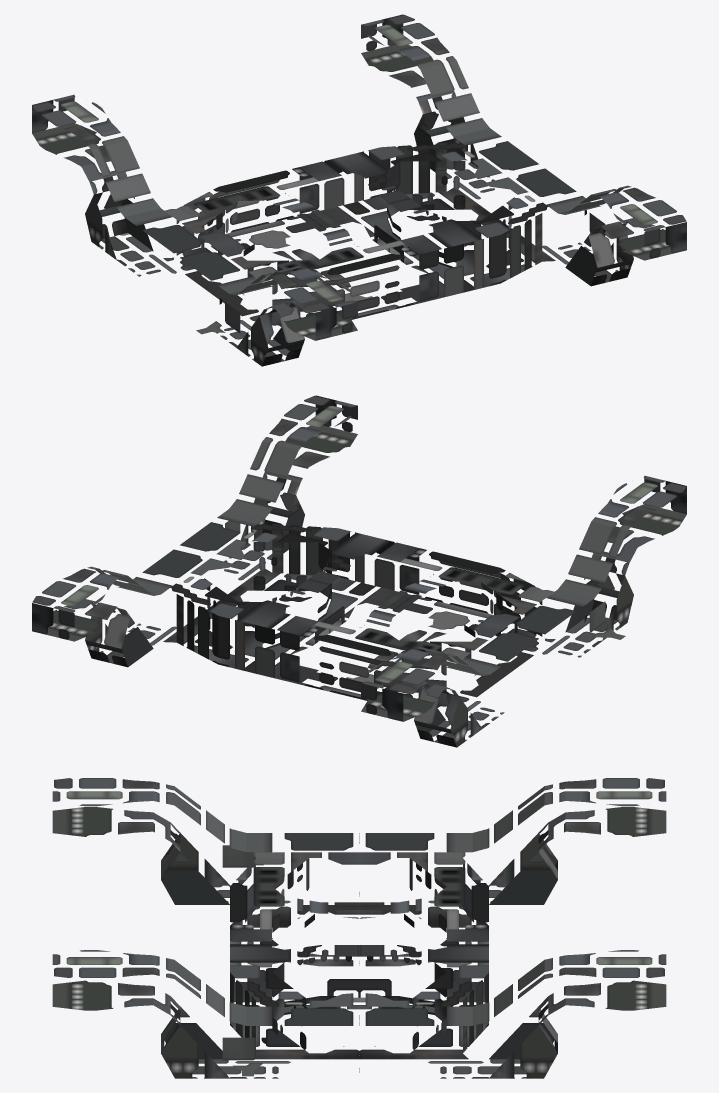
Rendered from frame.obj.
3 views of the same model, one above another, from view 1: azimuth 30°, elevation 25°; view 2: azimuth 150°, elevation 25°; view 3: azimuth 270°, elevation 25° (orthographic). The views are drawn at different scales.
Parts seen in each view (by area): view 1: 7cf689dd-1eef-8bf6-6ad1-de03ecfb1a05, d1c06e5a-9e5c-ef10-d450-b28d88e30d1c, 487ab08d-811e-2907-30f2-d24b9ccb7223, 2b9fe900-6c8f-273e-e138-6f986bbbc29f, 8745eeaf-5319-a50d-8b9d-fb3977d7cd1e, c4dfe120-b745-5eae-a7d9-37b55d8b1252, b2cb1ccc-1242-5784-09e6-369ddd9524be, 949fe6ac-1809-9cd4-9c62-712d0fc1b0db, 69cb2971-0ea8-21ae-bf05-8ecc505678e9; view 2: c4dfe120-b745-5eae-a7d9-37b55d8b1252, 487ab08d-811e-2907-30f2-d24b9ccb7223, d1c06e5a-9e5c-ef10-d450-b28d88e30d1c, 8745eeaf-5319-a50d-8b9d-fb3977d7cd1e, 2b9fe900-6c8f-273e-e138-6f986bbbc29f, 7cf689dd-1eef-8bf6-6ad1-de03ecfb1a05, 949fe6ac-1809-9cd4-9c62-712d0fc1b0db, b2cb1ccc-1242-5784-09e6-369ddd9524be, 69cb2971-0ea8-21ae-bf05-8ecc505678e9; view 3: 2b9fe900-6c8f-273e-e138-6f986bbbc29f, 8745eeaf-5319-a50d-8b9d-fb3977d7cd1e, c4dfe120-b745-5eae-a7d9-37b55d8b1252, 7cf689dd-1eef-8bf6-6ad1-de03ecfb1a05, d1c06e5a-9e5c-ef10-d450-b28d88e30d1c, 487ab08d-811e-2907-30f2-d24b9ccb7223, 949fe6ac-1809-9cd4-9c62-712d0fc1b0db, b2cb1ccc-1242-5784-09e6-369ddd9524be, 50bc8188-d60c-60ed-7530-eaaaee57a50e, 69cb2971-0ea8-21ae-bf05-8ecc505678e9.
Boxes of the visible parts, x1=… form: 7cf689dd-1eef-8bf6-6ad1-de03ecfb1a05: x1=32, y1=94, x2=202, y2=276; d1c06e5a-9e5c-ef10-d450-b28d88e30d1c: x1=299, y1=143, x2=502, y2=251; 487ab08d-811e-2907-30f2-d24b9ccb7223: x1=389, y1=177, x2=555, y2=303; 2b9fe900-6c8f-273e-e138-6f986bbbc29f: x1=361, y1=14, x2=538, y2=199; 8745eeaf-5319-a50d-8b9d-fb3977d7cd1e: x1=516, y1=168, x2=686, y2=286; c4dfe120-b745-5eae-a7d9-37b55d8b1252: x1=180, y1=251, x2=357, y2=366; b2cb1ccc-1242-5784-09e6-369ddd9524be: x1=163, y1=167, x2=329, y2=295; 949fe6ac-1809-9cd4-9c62-712d0fc1b0db: x1=213, y1=218, x2=418, y2=326; 69cb2971-0ea8-21ae-bf05-8ecc505678e9: x1=196, y1=298, x2=240, y2=334; c4dfe120-b745-5eae-a7d9-37b55d8b1252: x1=516, y1=475, x2=686, y2=657; 487ab08d-811e-2907-30f2-d24b9ccb7223: x1=216, y1=524, x2=419, y2=632; d1c06e5a-9e5c-ef10-d450-b28d88e30d1c: x1=163, y1=558, x2=329, y2=684; 8745eeaf-5319-a50d-8b9d-fb3977d7cd1e: x1=180, y1=395, x2=357, y2=580; 2b9fe900-6c8f-273e-e138-6f986bbbc29f: x1=32, y1=549, x2=202, y2=667; 7cf689dd-1eef-8bf6-6ad1-de03ecfb1a05: x1=361, y1=632, x2=538, y2=747; 949fe6ac-1809-9cd4-9c62-712d0fc1b0db: x1=389, y1=548, x2=555, y2=676; b2cb1ccc-1242-5784-09e6-369ddd9524be: x1=300, y1=599, x2=505, y2=707; 69cb2971-0ea8-21ae-bf05-8ecc505678e9: x1=584, y1=601, x2=625, y2=639; 2b9fe900-6c8f-273e-e138-6f986bbbc29f: x1=365, y1=950, x2=666, y2=1078; 8745eeaf-5319-a50d-8b9d-fb3977d7cd1e: x1=52, y1=950, x2=359, y2=1078; c4dfe120-b745-5eae-a7d9-37b55d8b1252: x1=52, y1=778, x2=359, y2=904; 7cf689dd-1eef-8bf6-6ad1-de03ecfb1a05: x1=365, y1=778, x2=666, y2=904; d1c06e5a-9e5c-ef10-d450-b28d88e30d1c: x1=359, y1=929, x2=488, y2=1059; 487ab08d-811e-2907-30f2-d24b9ccb7223: x1=230, y1=929, x2=359, y2=1059; 949fe6ac-1809-9cd4-9c62-712d0fc1b0db: x1=230, y1=852, x2=359, y2=981; b2cb1ccc-1242-5784-09e6-369ddd9524be: x1=359, y1=852, x2=488, y2=981; 50bc8188-d60c-60ed-7530-eaaaee57a50e: x1=222, y1=1037, x2=267, y2=1076; 69cb2971-0ea8-21ae-bf05-8ecc505678e9: x1=222, y1=845, x2=263, y2=867.
Bounding box in the file's own units: 2.66 × 0.5762 × 3.47.
